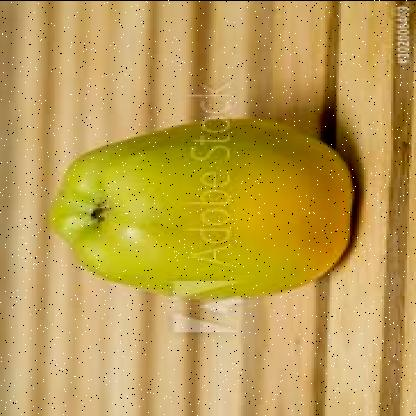apple: (45, 102, 357, 296)
